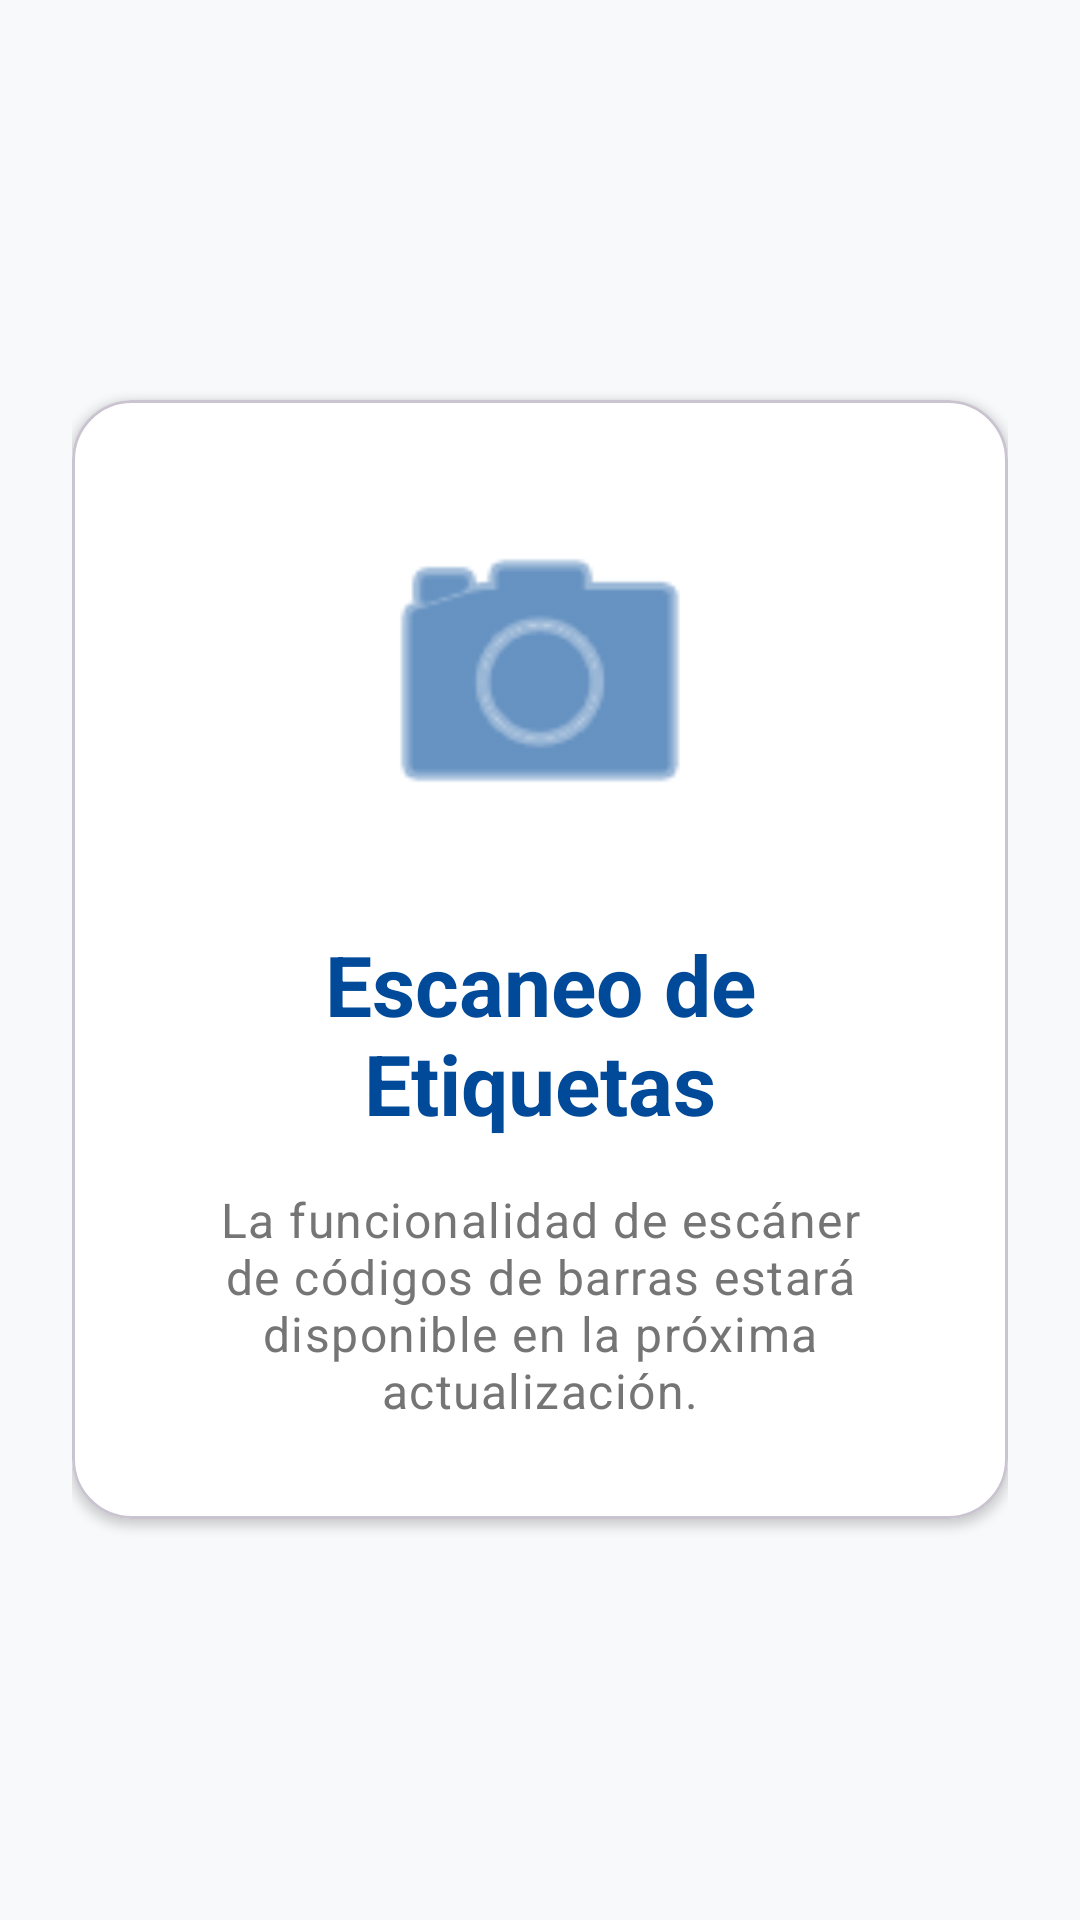

Icons on this 1080x1920 Android screen, each with its box as (x1, y1, x2, y2):
camera: (401, 559, 679, 781)
